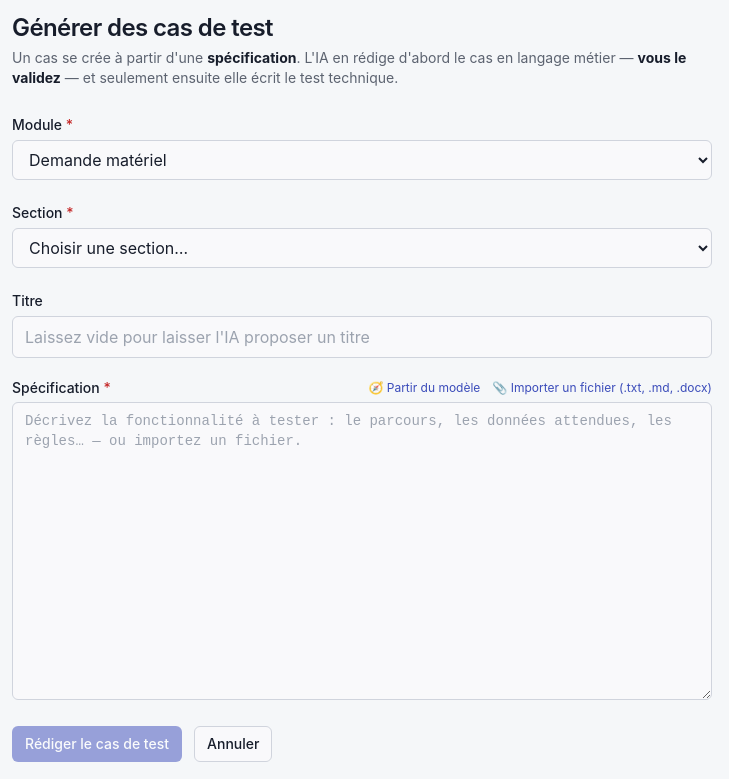
Test: AddTestCase — la pause métier (0022 n°5, étendue au §9, à PLAT et repliée depuis l'étape 3bis) › S'ARRÊTE sur awaiting_metier et affiche les cas, REPLIÉS par défaut
Replace the text in the text box with "La spécification à tester" at (362, 551), box [12,402,712,700]
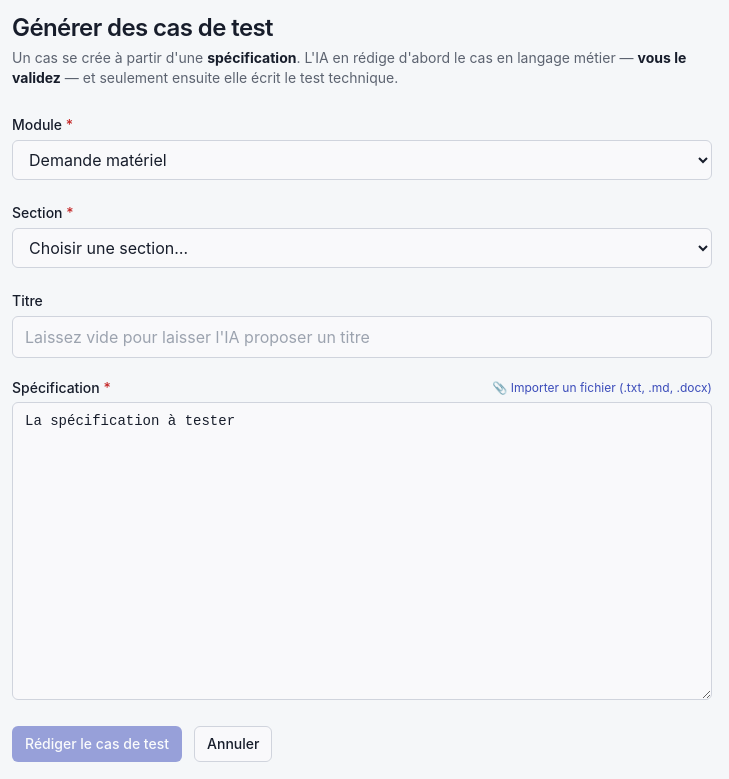
Select "Connexion" in the dropdown labelled "Section *" at (362, 248), box [12,228,712,268]
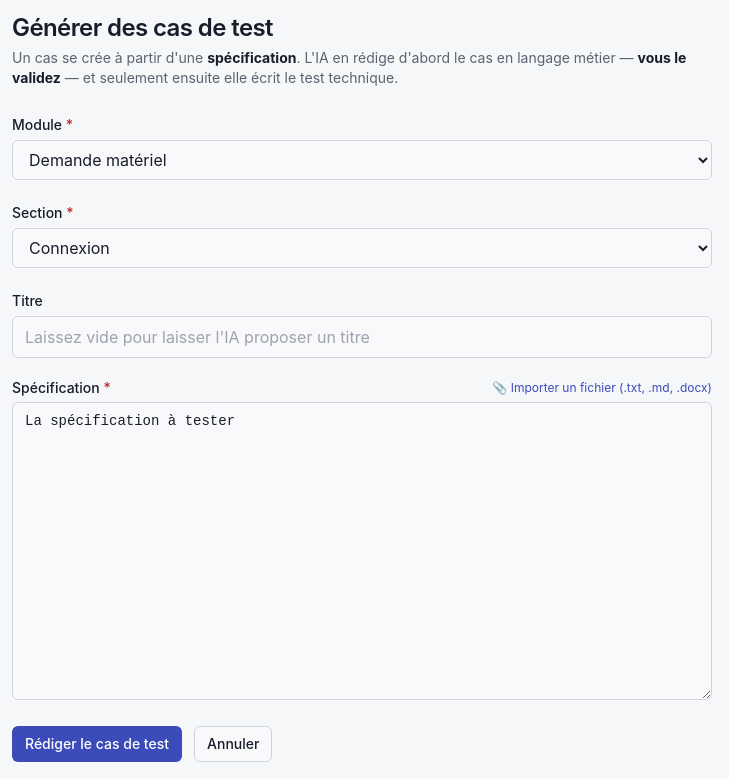
Submit the form
Wait 2100 ms
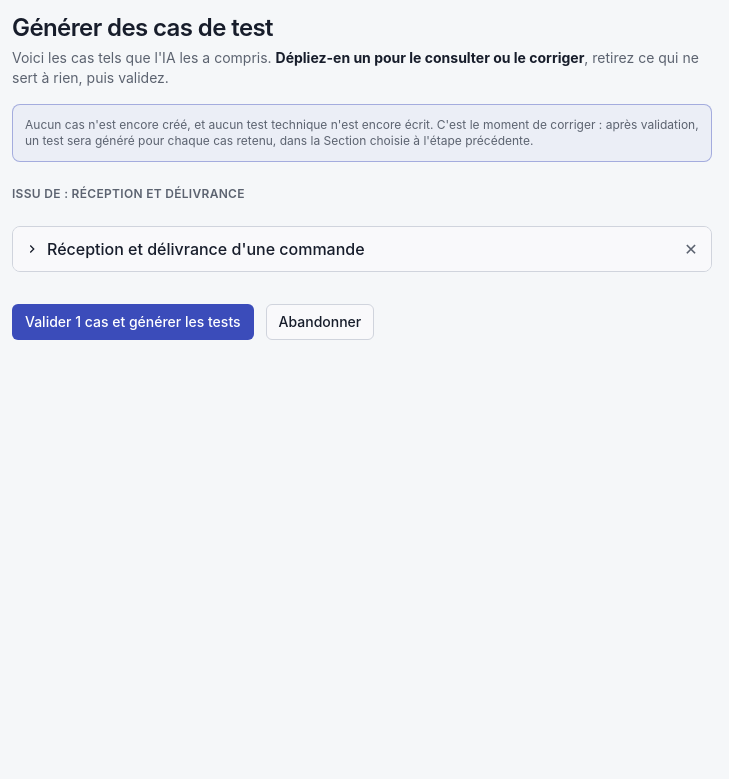
expect the text "Réception et délivrance d'une commande" is shown: met, box [47,239,365,259]
expect the text "Issu de : Réception et délivrance" is shown: met, box [12,186,245,201]
expect the text "Valider 1 cas et générer les tests" is shown: met, box [12,304,254,340]
